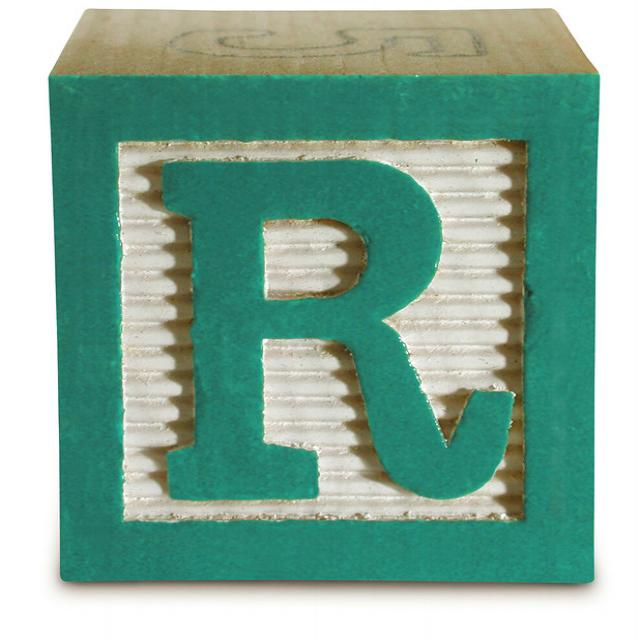R: (151, 148, 515, 506)
